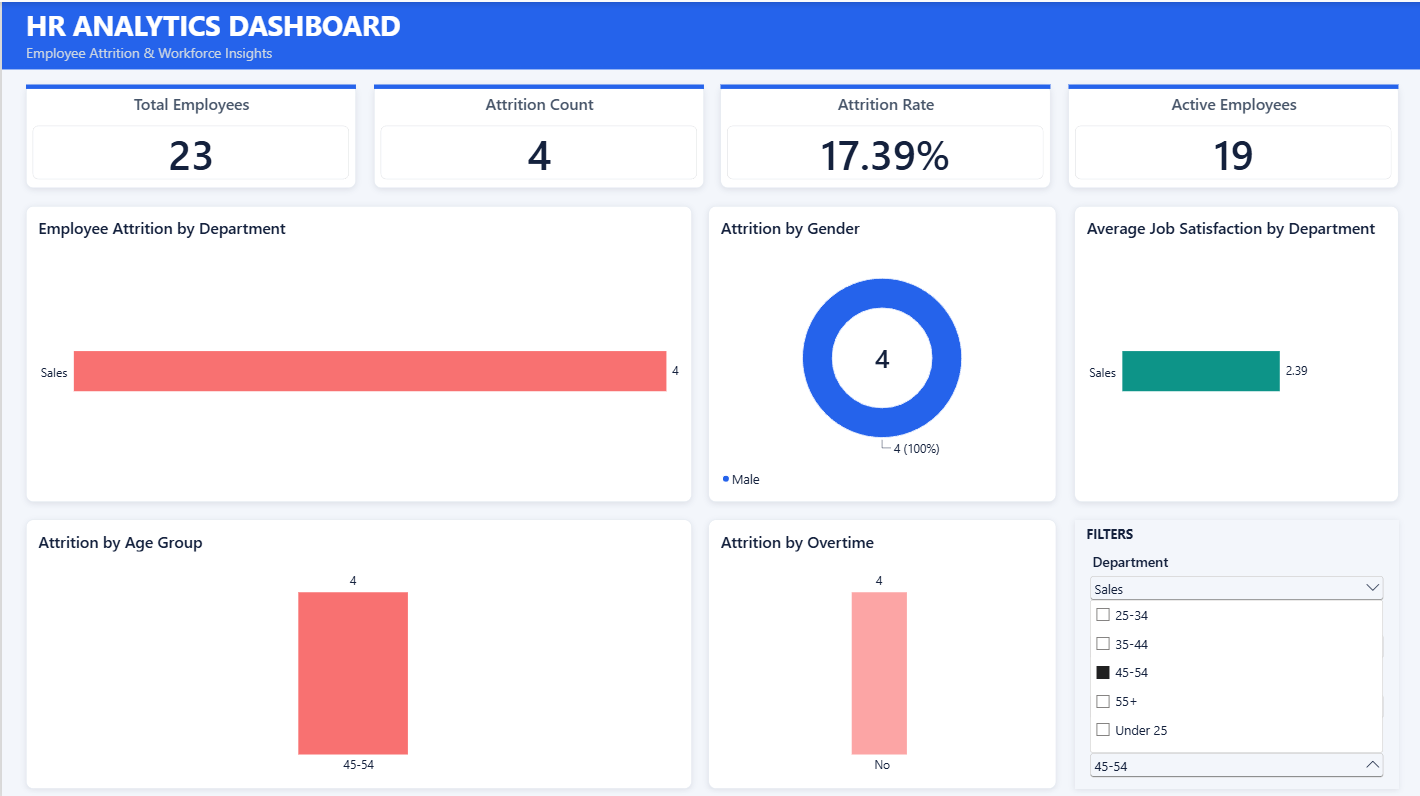

The page's visual inventory and layout, read from the dashboard file:
{"tool":"powerbi","page":{"name":"Page 1","canvas":[1920,1080],"ordinal":0},"visuals":[{"type":"cardVisual","title":"Total Employees","fields":{"Data":["HR-Data.Total Employees"]},"box":[32,112,446,140],"z":0},{"type":"shape","box":[0,0,1920,88],"z":10},{"type":"shape","box":[0,88,1920,4],"z":11},{"type":"shape","box":[1450,700,438,364],"z":100},{"type":"cardVisual","title":"Attrition Count","fields":{"Data":["HR-Data.Attribution Count"]},"box":[502,112,446,140],"z":1000},{"type":"cardVisual","title":"Attrition Rate","fields":{"Data":["HR-Data.Attribution Rate"]},"box":[972,112,446,140],"z":2000},{"type":"cardVisual","title":"Active Employees","fields":{"Data":["HR-Data.Active Employees"]},"box":[1442,112,446,140],"z":3000},{"type":"textbox","box":[32,6,1000,76],"z":4000},{"type":"clusteredBarChart","title":"Employee Attrition by Department","fields":{"Category":["HR-Data.Department"],"Y":["HR-Data.Attribution Count"]},"box":[32,276,900,400],"z":6000},{"type":"clusteredColumnChart","title":"Attrition by Age Group","fields":{"Category":["HR-Data.AgeGroup"],"Y":["HR-Data.Attribution Count"]},"box":[32,700,900,364],"z":7000},{"type":"donutChart","title":"Attrition by Gender","fields":{"Category":["HR-Data.Gender"],"Y":["HR-Data.Attribution Count"]},"box":[956,276,470,400],"z":7001},{"type":"clusteredColumnChart","title":"Attrition by Overtime","fields":{"Category":["HR-Data.OverTime"],"Y":["HR-Data.Attribution Count"]},"box":[956,700,470,364],"z":7002},{"type":"clusteredBarChart","title":"Average Job Satisfaction by Department","fields":{"Category":["HR-Data.Department"],"Y":["HR-Data.Average Job Satisfaction"]},"box":[1450,276,438,400],"z":7003},{"type":"slicer","fields":{"Values":["HR-Data.Department"]},"box":[1466,744,406,72],"z":7004},{"type":"slicer","fields":{"Values":["HR-Data.Gender"]},"box":[1466,824,406,72],"z":7005},{"type":"slicer","fields":{"Values":["HR-Data.OverTime"]},"box":[1466,904,406,72],"z":7006},{"type":"slicer","fields":{"Values":["HR-Data.AgeGroup"]},"box":[1466,984,406,72],"z":7007},{"type":"textbox","box":[1466,708,300,32],"z":7010},{"type":"shape","box":[32,112,446,6],"z":8000},{"type":"shape","box":[502,112,446,6],"z":8001},{"type":"shape","box":[972,112,446,6],"z":8002},{"type":"shape","box":[1442,112,446,6],"z":8003}]}

Visuals, with their boxes in screenshot pixels (x1, y1, x2, y2), scaled from the page's 1920x1080 canvas onto the 1420x796 screenshot:
"Total Employees" cardVisual: {"x1": 24, "y1": 83, "x2": 354, "y2": 186}
shape: {"x1": 0, "y1": 0, "x2": 1419, "y2": 65}
shape: {"x1": 0, "y1": 65, "x2": 1419, "y2": 68}
shape: {"x1": 1072, "y1": 516, "x2": 1396, "y2": 784}
"Attrition Count" cardVisual: {"x1": 371, "y1": 83, "x2": 701, "y2": 186}
"Attrition Rate" cardVisual: {"x1": 719, "y1": 83, "x2": 1049, "y2": 186}
"Active Employees" cardVisual: {"x1": 1066, "y1": 83, "x2": 1396, "y2": 186}
textbox: {"x1": 24, "y1": 4, "x2": 763, "y2": 60}
"Employee Attrition by Department" clusteredBarChart: {"x1": 24, "y1": 203, "x2": 689, "y2": 498}
"Attrition by Age Group" clusteredColumnChart: {"x1": 24, "y1": 516, "x2": 689, "y2": 784}
"Attrition by Gender" donutChart: {"x1": 707, "y1": 203, "x2": 1055, "y2": 498}
"Attrition by Overtime" clusteredColumnChart: {"x1": 707, "y1": 516, "x2": 1055, "y2": 784}
"Average Job Satisfaction by Department" clusteredBarChart: {"x1": 1072, "y1": 203, "x2": 1396, "y2": 498}
slicer - HR-Data.Department: {"x1": 1084, "y1": 548, "x2": 1384, "y2": 601}
slicer - HR-Data.Gender: {"x1": 1084, "y1": 607, "x2": 1384, "y2": 660}
slicer - HR-Data.OverTime: {"x1": 1084, "y1": 666, "x2": 1384, "y2": 719}
slicer - HR-Data.AgeGroup: {"x1": 1084, "y1": 725, "x2": 1384, "y2": 778}
textbox: {"x1": 1084, "y1": 522, "x2": 1306, "y2": 545}
shape: {"x1": 24, "y1": 83, "x2": 354, "y2": 87}
shape: {"x1": 371, "y1": 83, "x2": 701, "y2": 87}
shape: {"x1": 719, "y1": 83, "x2": 1049, "y2": 87}
shape: {"x1": 1066, "y1": 83, "x2": 1396, "y2": 87}
